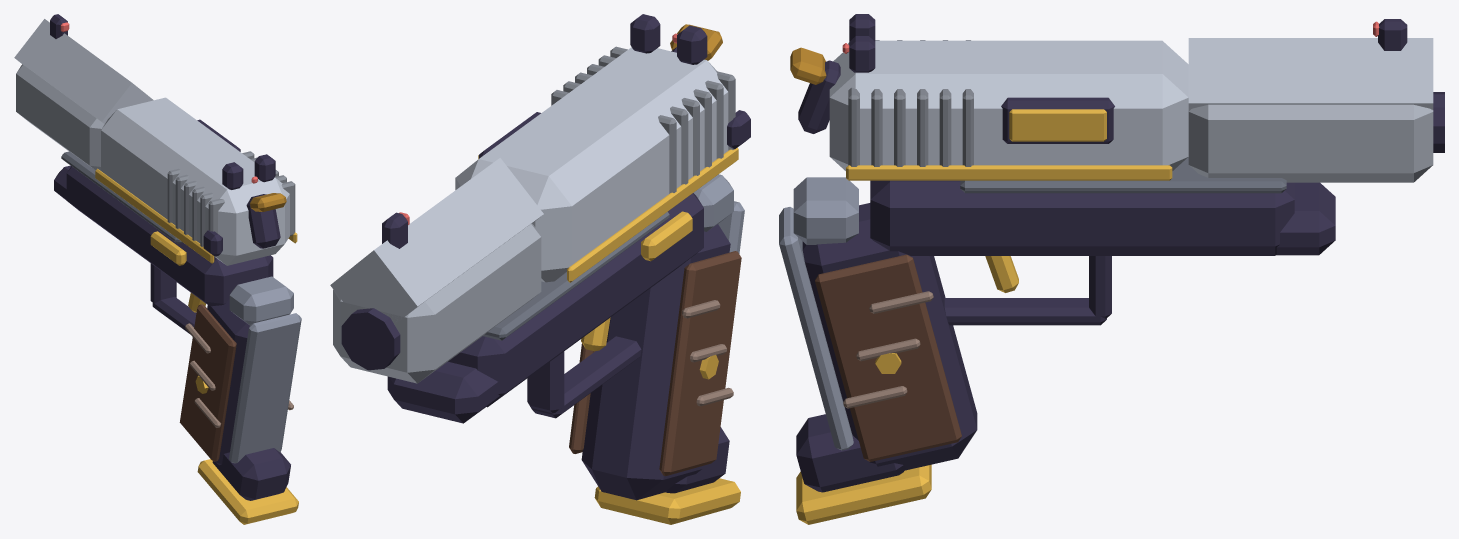
File: deagle.glb
3 renders of one model, left to right at view 1: azimuth 30°, elevation 25°; view 2: azimuth 150°, elevation 25°; view 3: azimuth 270°, elevation 25°, orthographic. The views are drawn at different scales.
Parts seen in each view (by area): view 1: _MeshInstance3D_780, _MeshInstance3D_772, _MeshInstance3D_812, Barrel, PanelL, _MeshInstance3D_775, _MeshInstance3D_814, _MeshInstance3D_815, _MeshInstance3D_813, Grip, _MeshInstance3D_783, _MeshInstance3D_794 (+14 smaller); view 2: _MeshInstance3D_780, Grip, Barrel, _MeshInstance3D_775, _MeshInstance3D_772, PanelL, _MeshInstance3D_773, _MeshInstance3D_815, _MeshInstance3D_777, _MeshInstance3D_783, _MeshInstance3D_798, _MeshInstance3D_774 (+18 smaller); view 3: _MeshInstance3D_780, _MeshInstance3D_772, _MeshInstance3D_775, PanelR, Barrel, Grip, _MeshInstance3D_784, _MeshInstance3D_774, _MeshInstance3D_812, _MeshInstance3D_815, _MeshInstance3D_814, _MeshInstance3D_798 (+16 smaller).
Boxes of the visible parts, x1=… form: _MeshInstance3D_780: x1=101, y1=97, x2=289, y2=265; _MeshInstance3D_772: x1=66, y1=166, x2=273, y2=306; _MeshInstance3D_812: x1=229, y1=313, x2=301, y2=463; Barrel: x1=14, y1=19, x2=153, y2=124; PanelL: x1=179, y1=304, x2=236, y2=461; _MeshInstance3D_775: x1=16, y1=64, x2=104, y2=170; _MeshInstance3D_814: x1=212, y1=448, x2=290, y2=500; _MeshInstance3D_815: x1=197, y1=459, x2=298, y2=524; _MeshInstance3D_813: x1=229, y1=276, x2=293, y2=325; Grip: x1=207, y1=299, x2=249, y2=465; _MeshInstance3D_783: x1=95, y1=168, x2=214, y2=263; _MeshInstance3D_794: x1=246, y1=194, x2=280, y2=248; _MeshInstance3D_780: x1=455, y1=47, x2=728, y2=282; Grip: x1=581, y1=224, x2=730, y2=500; Barrel: x1=330, y1=158, x2=543, y2=324; _MeshInstance3D_775: x1=333, y1=223, x2=541, y2=383; _MeshInstance3D_772: x1=448, y1=193, x2=703, y2=407; PanelL: x1=659, y1=251, x2=741, y2=476; _MeshInstance3D_773: x1=387, y1=361, x2=499, y2=423; _MeshInstance3D_815: x1=594, y1=478, x2=740, y2=524; _MeshInstance3D_777: x1=341, y1=308, x2=400, y2=370; _MeshInstance3D_783: x1=567, y1=147, x2=738, y2=282; _MeshInstance3D_798: x1=530, y1=336, x2=641, y2=418; _MeshInstance3D_774: x1=483, y1=211, x2=669, y2=340; _MeshInstance3D_780: x1=829, y1=40, x2=1188, y2=170; _MeshInstance3D_772: x1=870, y1=180, x2=1294, y2=255; _MeshInstance3D_775: x1=1188, y1=104, x2=1433, y2=182; PanelR: x1=815, y1=254, x2=961, y2=461; Barrel: x1=1188, y1=38, x2=1433, y2=109; Grip: x1=802, y1=203, x2=977, y2=470; _MeshInstance3D_784: x1=846, y1=165, x2=1172, y2=180; _MeshInstance3D_774: x1=960, y1=157, x2=1286, y2=193; _MeshInstance3D_812: x1=779, y1=207, x2=853, y2=450; _MeshInstance3D_815: x1=796, y1=464, x2=931, y2=524; _MeshInstance3D_814: x1=796, y1=414, x2=905, y2=492; _MeshInstance3D_798: x1=944, y1=298, x2=1106, y2=325.
Bounding box in the file's own units: 0.092 × 0.33 × 0.408.
